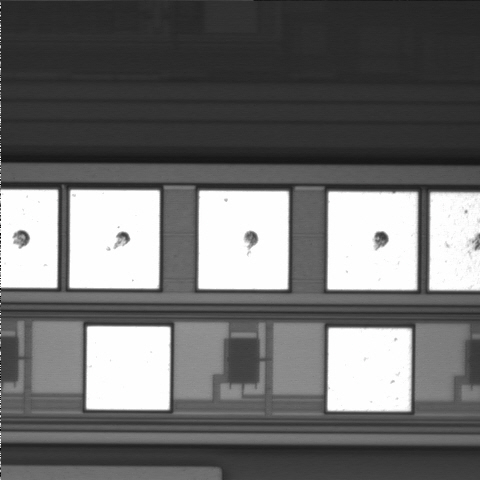pad: (69, 190, 160, 289), (198, 191, 289, 289), (328, 192, 417, 290), (86, 326, 170, 410), (328, 328, 411, 411)
